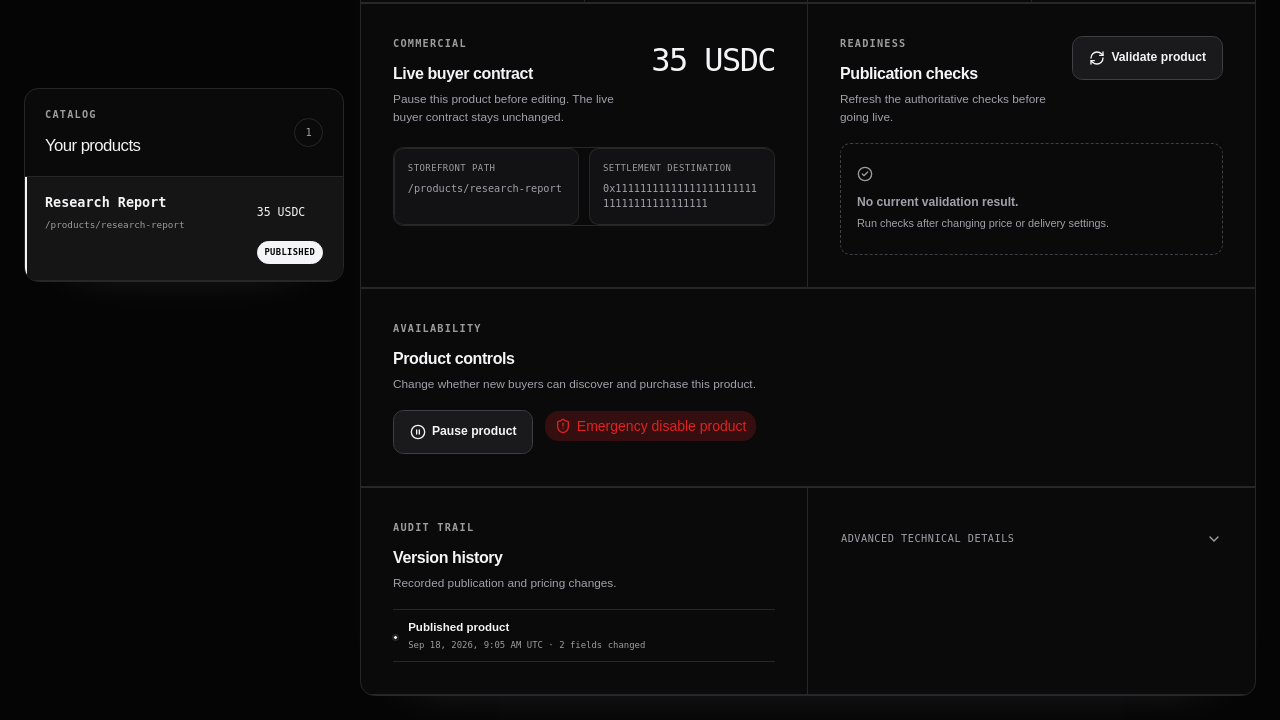
Test: product route workspace › leads with product language and keeps route details advanced
The width and height of the screenshot is (1280, 720).
(page scrolled)
Check: the element named "Product catalog" is shown, box [24,88,344,283]
Check: the text "35 USDC" below "Your products" is shown, box [257,205,305,219]
Click the button "Advanced technical details": (928, 538) [840,520,1223,568]
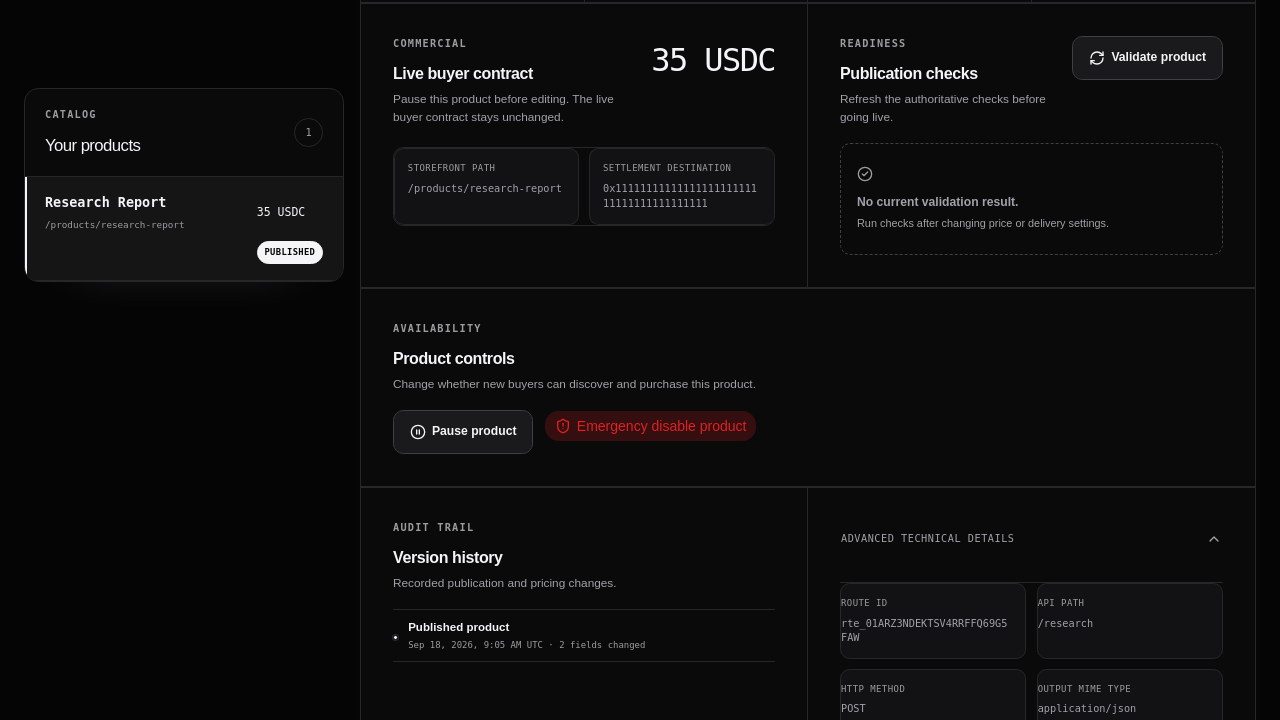
Check: the text "Route ID" is shown, box [841,598,888,608]
Check: the text "rte_01ARZ3NDEKTSV4RRFFQ69G5FAW" is shown, box [841,616,1012,645]
Check: the text "API path" is shown, box [1038,598,1084,608]
Click the button "Validate product": (1148, 58) [1072,36,1223,80]
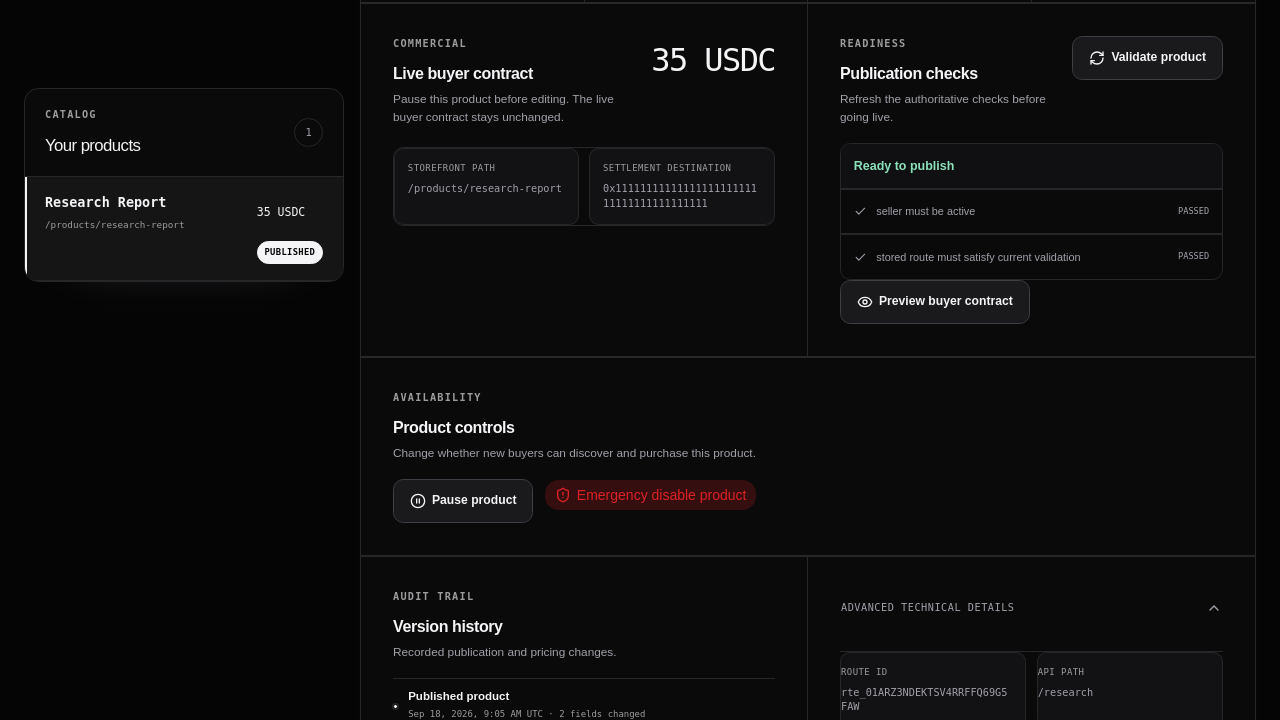
Check: the text "Published product" is shown, box [408,690,509,702]
Check: the text "Ready to publish" is shown, box [841,144,1222,189]
Check: the text "Passed" is shown 2 times, box [1178,205,1209,218]; [1178,250,1209,264]
